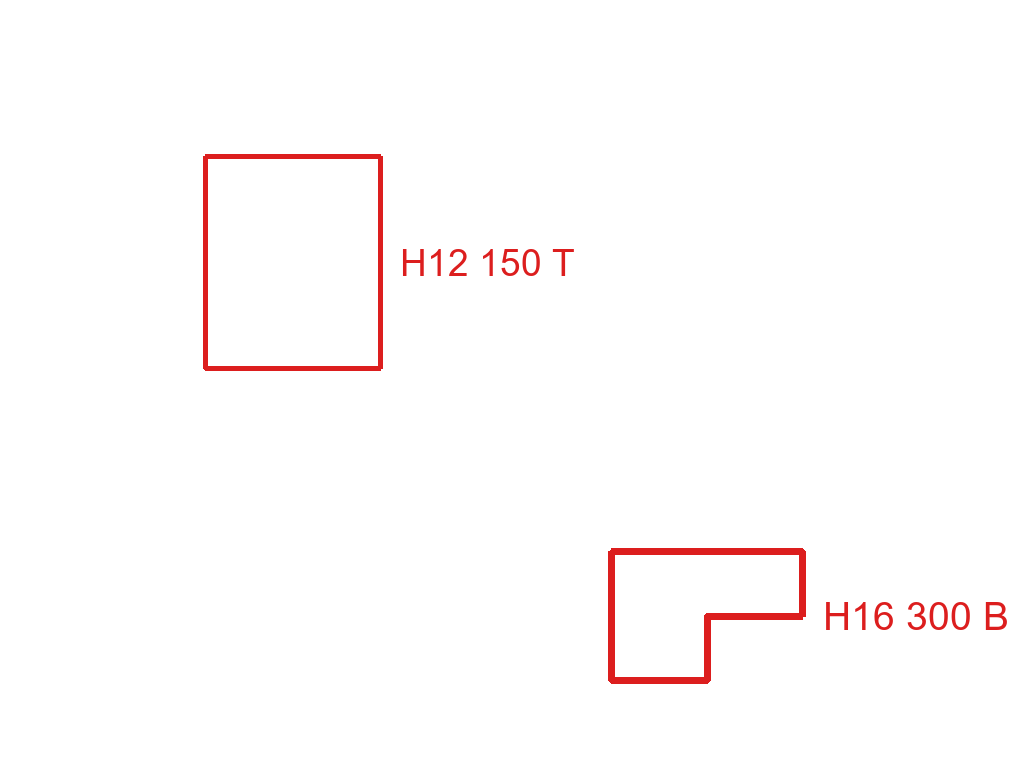shape: (201, 152, 385, 373), (606, 546, 808, 686)
text: (821, 600, 1011, 632), (398, 247, 577, 278)
